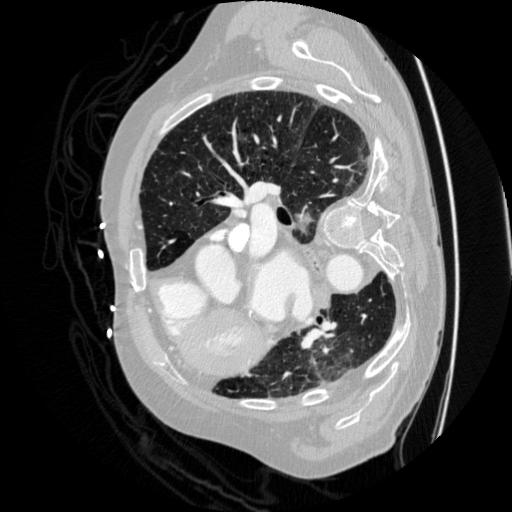nodule: (293, 209, 317, 233)
